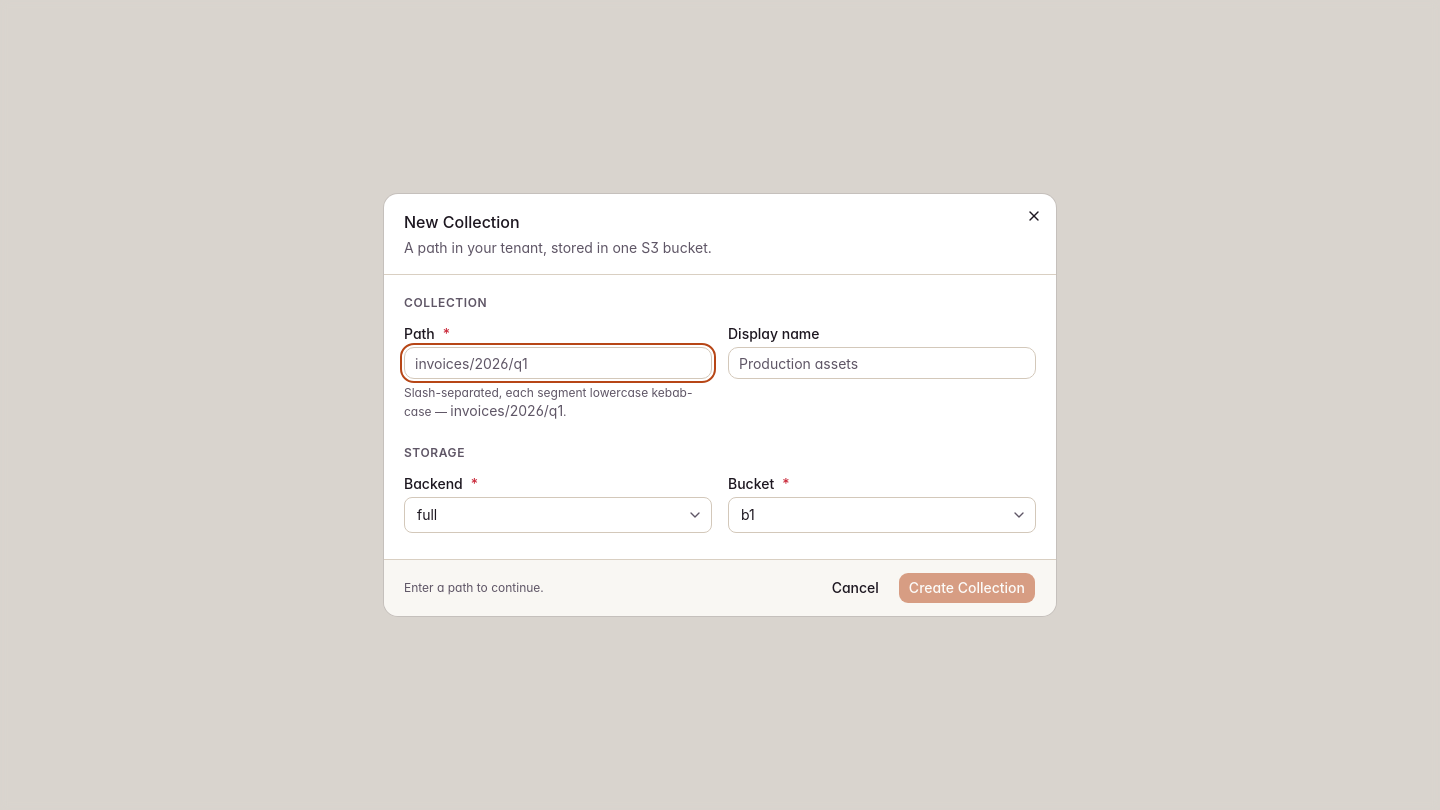
CollectionCreateDialog › keeps a failed create open, with the reason
Step 1. Type "x" into the field labelled "Path *" → [558, 363], box [404,347,712,379]
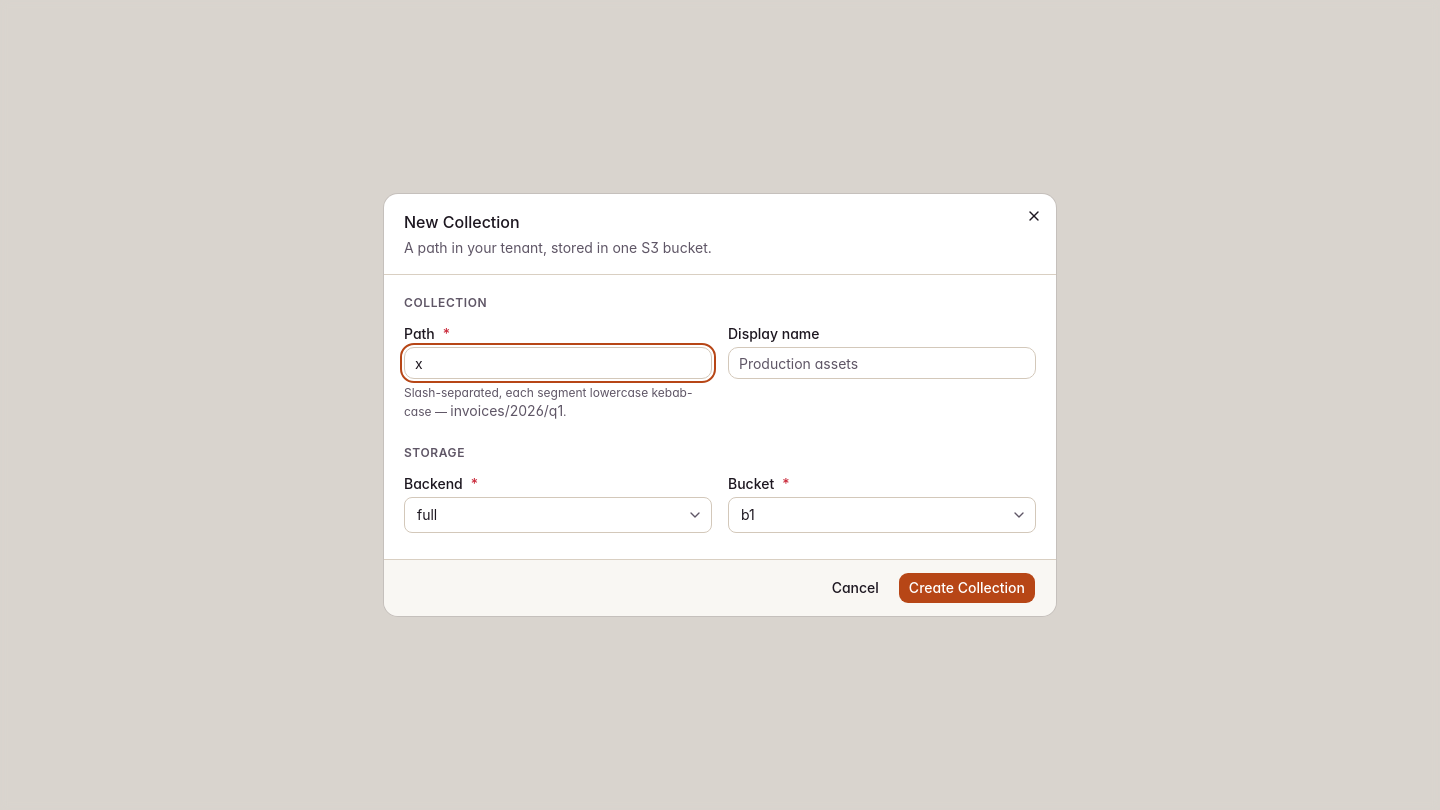
Step 2. Submit the form, box [384,194,1056,616]
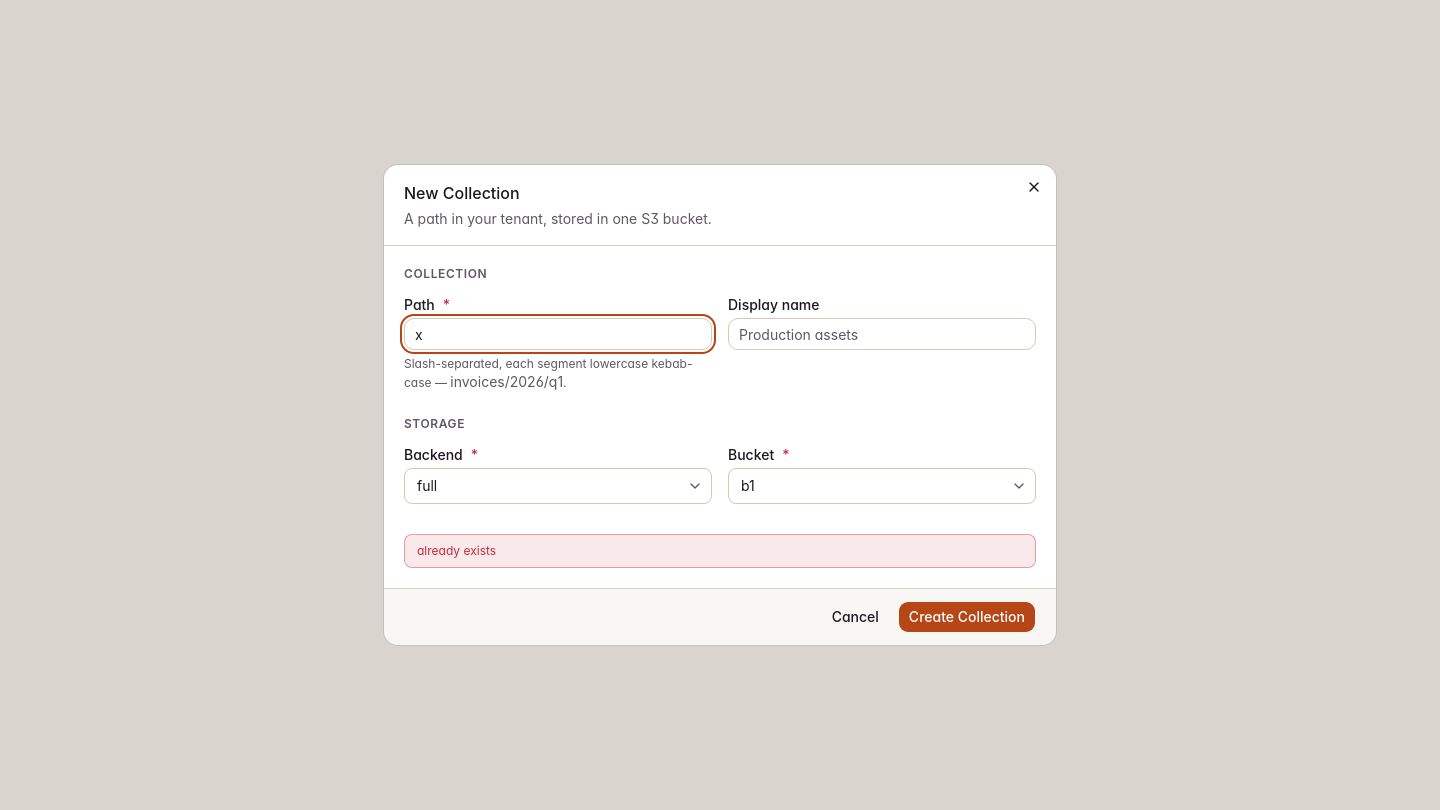
Expected: the message reads "already exists", [417,543,496,558]
